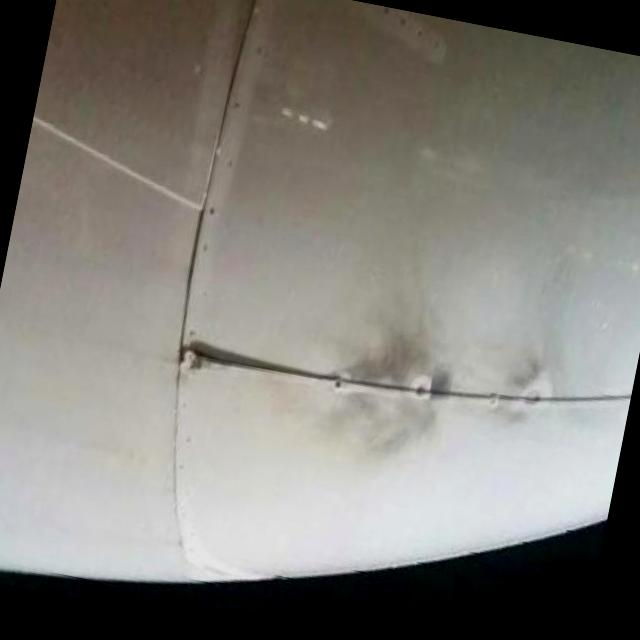crack: (181, 344, 341, 390)
